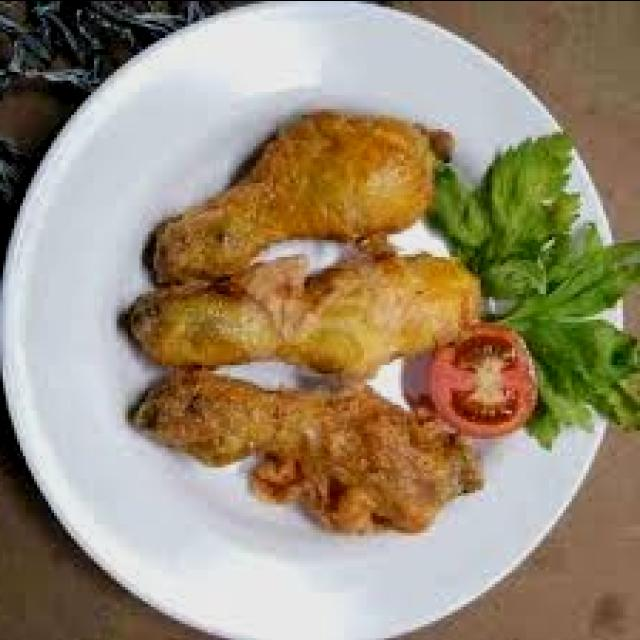ayam goreng: (128, 367, 484, 538), (151, 108, 447, 299), (128, 242, 484, 375)
